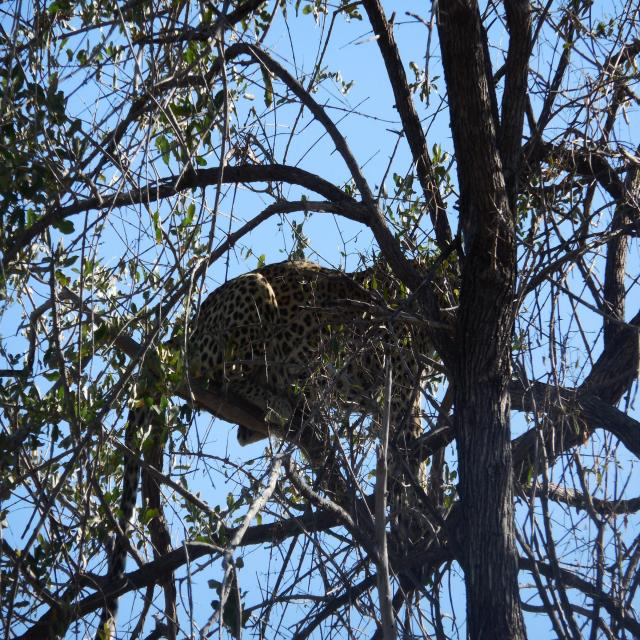Leopard: (185, 238, 482, 511)
